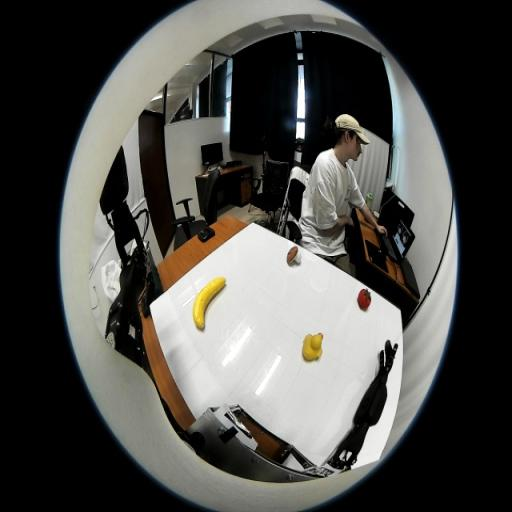Banana: (192, 276, 226, 330)
Duck: (302, 332, 324, 361)
Mushroom: (287, 246, 302, 265)
RightHand: (378, 366, 390, 376)
Tomato: (358, 288, 371, 308)
